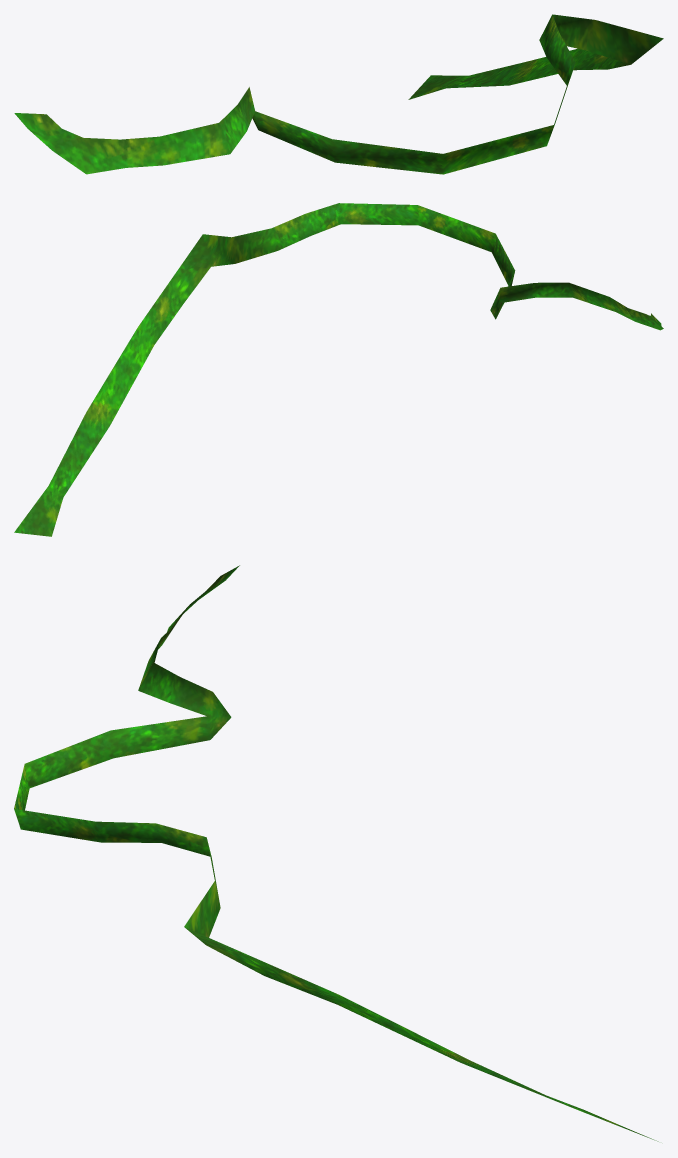
Rendered from EKH_ENTRANCE_PS_EN_GRASSBLEND11092.fbx.
The picture shows the model from 3 angles, top to bottom: view 1: azimuth 30°, elevation 25°; view 2: azimuth 150°, elevation 25°; view 3: azimuth 270°, elevation 25°; orthographic projection. The views are drawn at different scales.
Parts seen in each view (by area): view 1: EKH_ENTRANCE_PS_EN_GRASSBLEND11092; view 2: EKH_ENTRANCE_PS_EN_GRASSBLEND11092; view 3: EKH_ENTRANCE_PS_EN_GRASSBLEND11092.
Boxes of the visible parts, bbox=[...] form: EKH_ENTRANCE_PS_EN_GRASSBLEND11092: bbox=[14, 14, 663, 174]; EKH_ENTRANCE_PS_EN_GRASSBLEND11092: bbox=[14, 203, 663, 536]; EKH_ENTRANCE_PS_EN_GRASSBLEND11092: bbox=[14, 565, 658, 1141].
Bounding box in the file's own units: 123697 × 51868 × 109954.
1 material, 1 textured.
